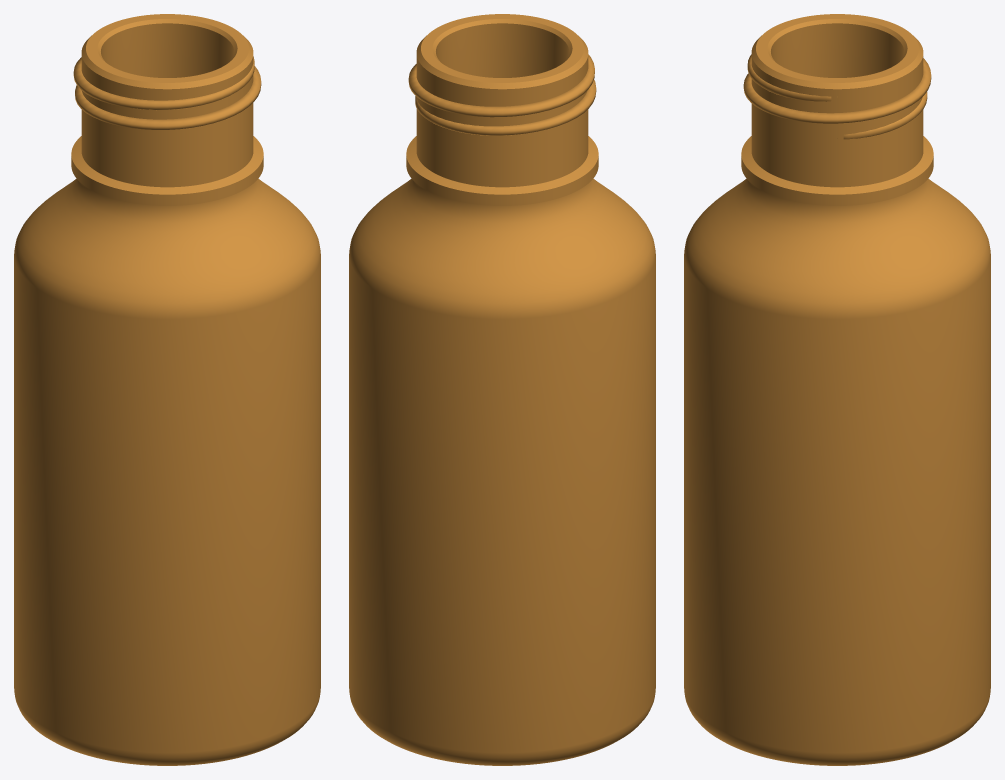
Rendered from neck_PP20.glb.
3 views of the same model, side by side, from view 1: azimuth 30°, elevation 25°; view 2: azimuth 150°, elevation 25°; view 3: azimuth 270°, elevation 25° (orthographic).
Parts seen in each view (by area): view 1: Bottle_030ml; view 2: Bottle_030ml; view 3: Bottle_030ml.
Part boxes in pixels (<box>): Bottle_030ml: <box>14,14,320,765</box>; Bottle_030ml: <box>349,14,655,765</box>; Bottle_030ml: <box>684,14,990,765</box>.
Bounding box in the file's own units: 0.0317 × 0.0754 × 0.0317.
